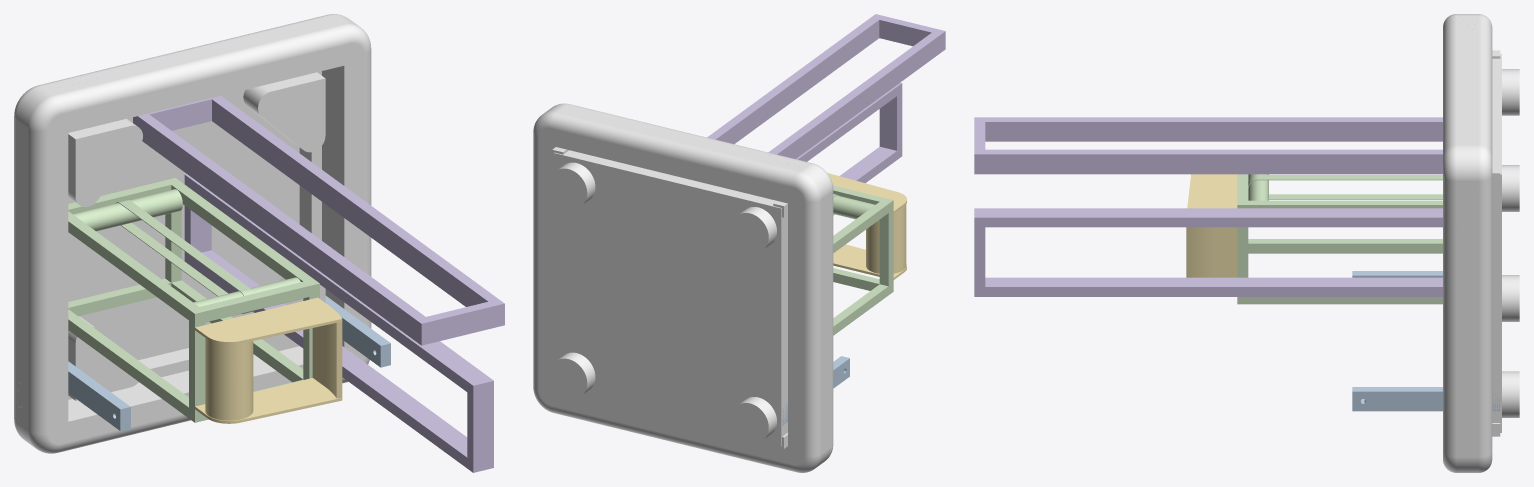
3 renders of one model, left to right at view 1: azimuth 30°, elevation 25°; view 2: azimuth 150°, elevation 25°; view 3: azimuth 270°, elevation 25°, orthographic. The views are drawn at different scales.
Parts seen in each view (by area): view 1: mesh0_mesh, occurrence of 1 (×2), Configurable Ball Tunnel, Fixed Hood Shooter, 2x1 (×2); view 2: mesh0_mesh, occurrence of 1 (×2), Configurable Ball Tunnel, Fixed Hood Shooter, 2x1; view 3: occurrence of 1 (×2), mesh0_mesh, Configurable Ball Tunnel, Fixed Hood Shooter, 2x1 (×2).
Boxes of the visible parts, x1,y1,x2,y2 form: mesh0_mesh: (14, 14, 371, 453); occurrence of 1 (×2): (133, 96, 504, 472); Configurable Ball Tunnel: (68, 178, 319, 422); Fixed Hood Shooter: (195, 297, 342, 423); 2x1 (×2): (68, 296, 390, 430); mesh0_mesh: (533, 103, 833, 472); occurrence of 1 (×2): (707, 14, 945, 183); Configurable Ball Tunnel: (833, 185, 893, 335); Fixed Hood Shooter: (827, 173, 906, 279); 2x1: (782, 356, 849, 425); occurrence of 1 (×2): (974, 117, 1442, 296); mesh0_mesh: (1443, 14, 1519, 472); Configurable Ball Tunnel: (1237, 174, 1442, 304); Fixed Hood Shooter: (1186, 174, 1237, 277); 2x1 (×2): (1352, 271, 1500, 411).
Size of the model in its own units: 0.8318 by 0.8318 by 1.26.
